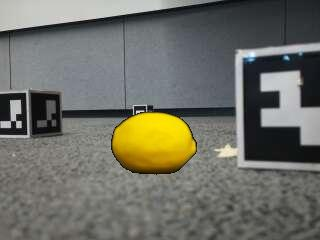lemon: (112, 113, 196, 174)
